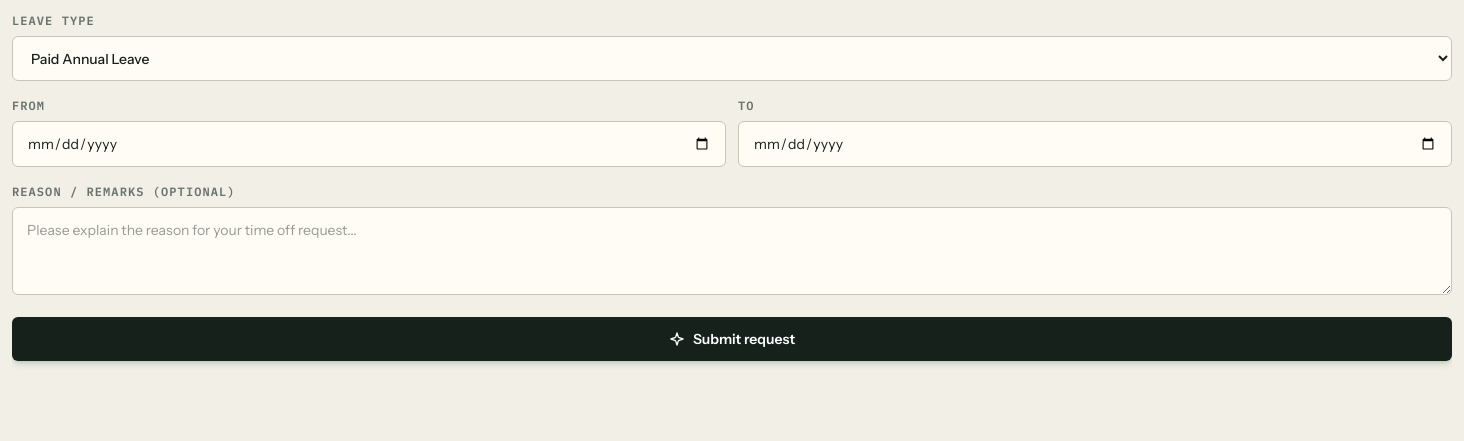
Test: LeaveForm › does not apply balance limits to unpaid leave
This screenshot has width=1464, height=441.
Select "Unpaid Leave of Absence" in the dropdown labelled "Leave type" at point(732, 58), box [12,36,1452,81]
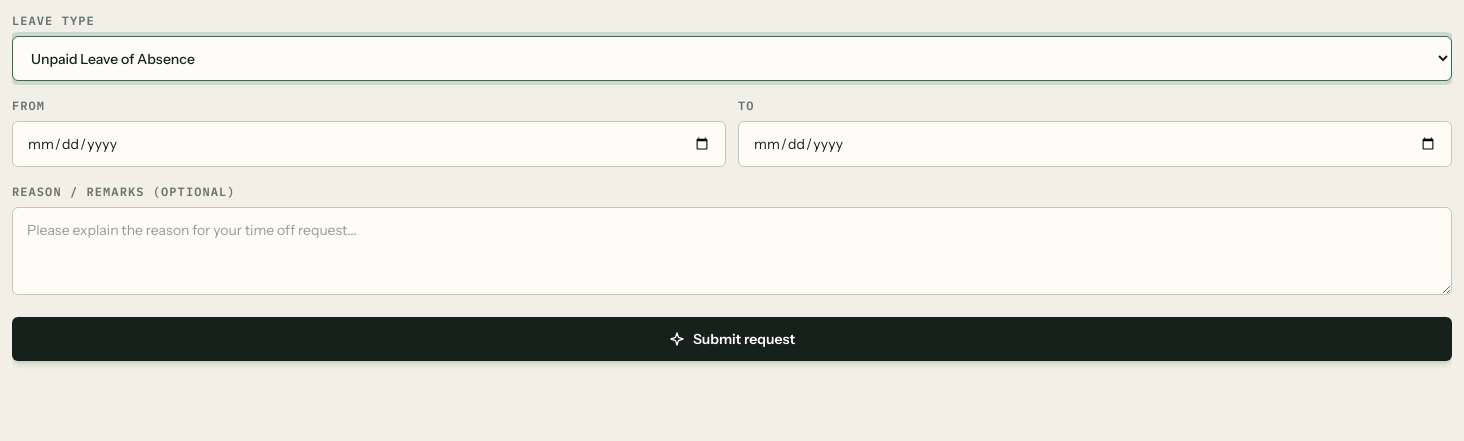
Type "2026-09-07" into the date field labelled "From" at point(369, 144), box [12,121,726,167]
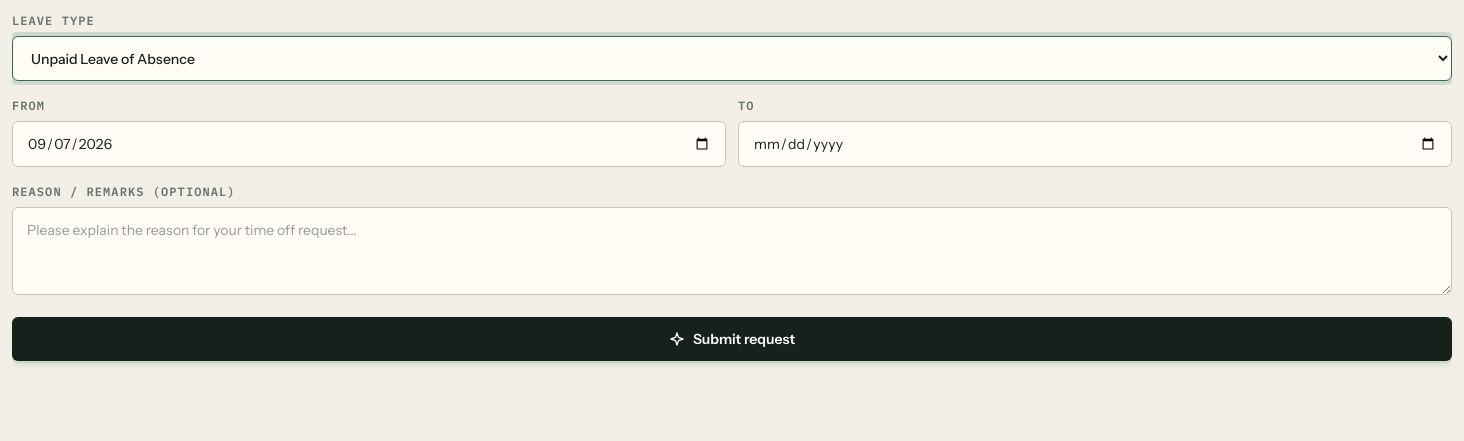
Type "2026-09-11" into the date field labelled "To" at point(1095, 144), box [738,121,1452,167]
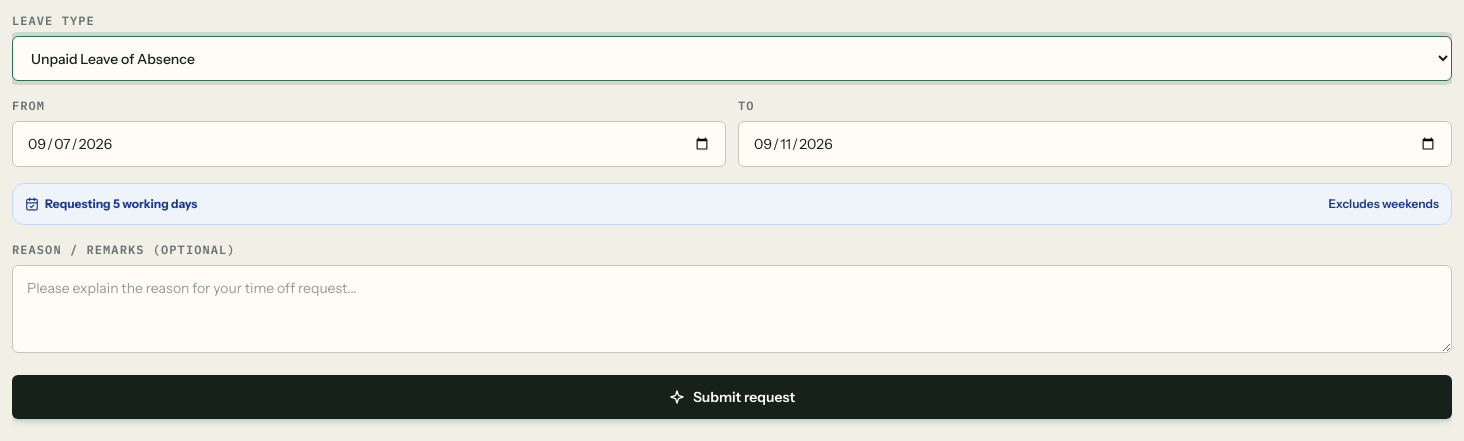
Result: the text "Requesting 5 working days" is shown at [45,196,197,212]
Result: the text "Excludes weekends" is shown at [1328,196,1439,212]
